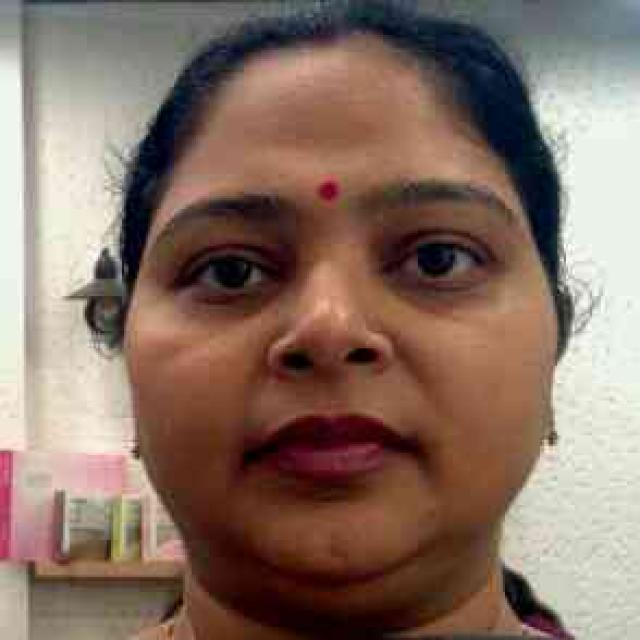puffy_eyes: (377, 277, 496, 312), (177, 281, 289, 313)
